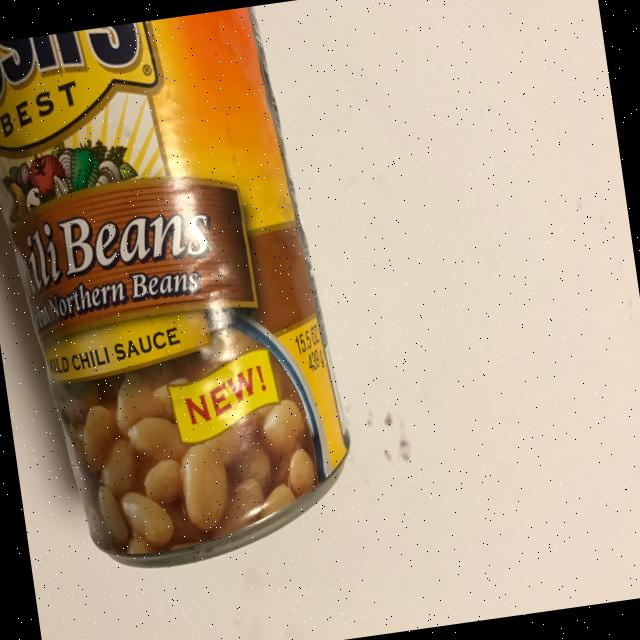metal: (0, 1, 365, 585)
